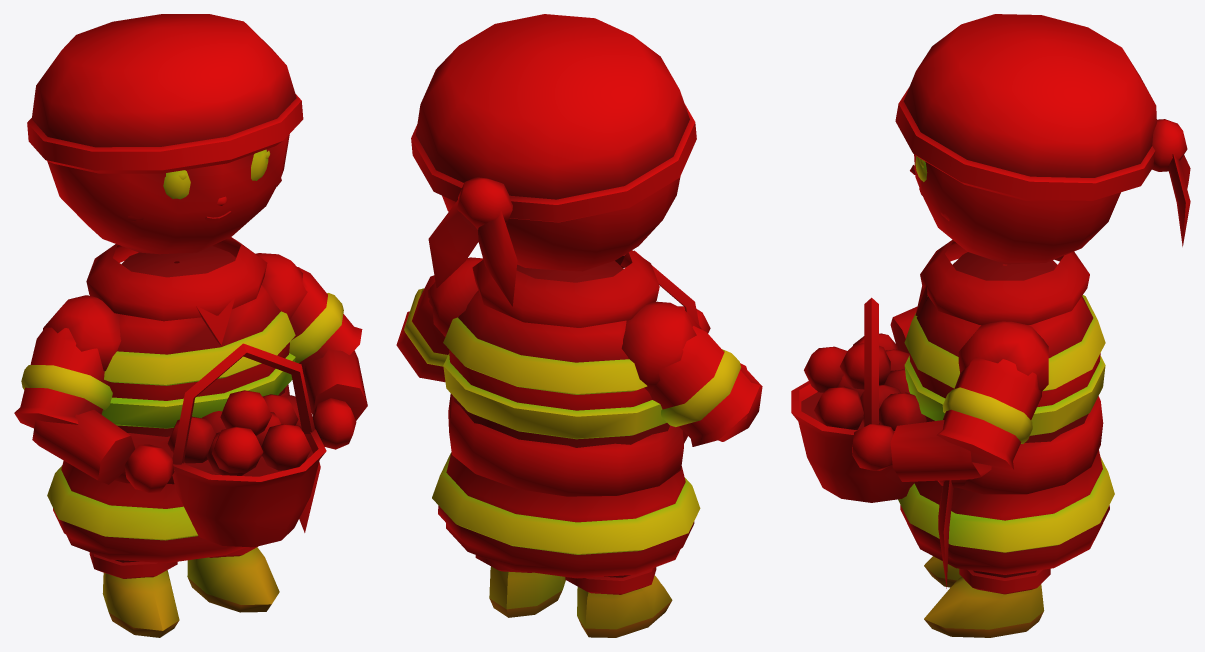
Rendered from PirateDeckhand_carry_food.glb.
3 views of the same model, side by side, from view 1: azimuth 30°, elevation 25°; view 2: azimuth 150°, elevation 25°; view 3: azimuth 270°, elevation 25° (orthographic). The views are drawn at different scales.
Visible parts, largest first — view 1: PirateDeckhand_carry_food; view 2: PirateDeckhand_carry_food; view 3: PirateDeckhand_carry_food.
Boxes of the visible parts, x1,y1,x2,y2 form: PirateDeckhand_carry_food: (14,14,367,637); PirateDeckhand_carry_food: (396,14,762,637); PirateDeckhand_carry_food: (791,14,1190,637).
Bounding box in the file's own units: 0.5164 × 0.8097 × 0.5237.
